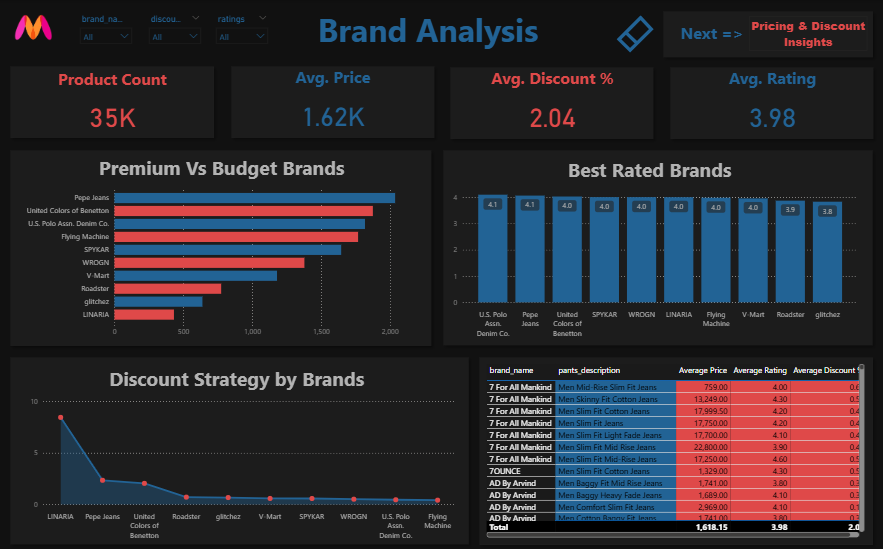

This screenshot's page, from the dashboard's own definition file:
{"tool":"powerbi","page":{"name":"Brand Analysis","canvas":[1480,920],"ordinal":1},"visuals":[{"type":"shape","box":[10.3,102.2,358.2,137.6],"z":0,"group":"g1"},{"type":"shape","box":[10,242,722.3,345.4],"z":0},{"type":"shape","box":[734.2,242.6,736.2,344.2],"z":1000},{"type":"shape","box":[1113.6,104.6,357.5,137.6],"z":2000,"group":"g3"},{"type":"shape","box":[10,589.3,784.5,330.7],"z":2000},{"type":"shape","box":[794.2,588.7,676.2,331.3],"z":3000},{"type":"clusteredBarChart","fields":{"Category":["myntra_cleaned.brand_name"],"Y":["myntra_cleaned.Average Price"]},"box":[30,301.7,690,271.7],"z":4000},{"type":"card","fields":{"Values":["myntra_cleaned.Average Rating"]},"box":[1113.8,154.5,359.6,78],"z":5000,"group":"g3"},{"type":"clusteredColumnChart","fields":{"Category":["myntra_cleaned.brand_name"],"Y":["myntra_cleaned.Average Rating"]},"box":[753.3,286.7,688.3,286.7],"z":5000},{"type":"card","fields":{"Values":["myntra_cleaned.Total Products"]},"box":[10,154.6,359.6,78],"z":6000,"group":"g1"},{"type":"lineChart","fields":{"Category":["myntra_cleaned.brand_name"],"Y":["myntra_cleaned.Average Discount %"]},"box":[25,656.7,746.7,253.3],"z":6000},{"type":"shape","box":[1102.5,10,368.8,95],"z":7000},{"type":"textbox","box":[466.3,5.9,501.9,86.9],"z":8000},{"type":"slicer","fields":{"Values":["myntra_cleaned.brand_name"]},"box":[125,18.3,107.2,68.3],"z":9000,"group":"g2"},{"type":"textbox","box":[1113.8,107.1,359.6,55],"z":9000,"group":"g3"},{"type":"slicer","fields":{"Values":["myntra_cleaned.ratings"]},"box":[352.8,18.3,107.2,68.3],"z":10000,"group":"g2"},{"type":"textbox","box":[10,109.1,359.1,54.6],"z":10000,"group":"g1"},{"type":"slicer","fields":{"Values":["myntra_cleaned.discount_percent"]},"box":[239.6,18.3,107.2,68.3],"z":11000,"group":"g2"},{"type":"shape","box":[746.1,104.5,357.5,137.6],"z":11000,"group":"g3"},{"type":"textbox","box":[1112.5,31.2,161.2,55],"z":12000},{"type":"actionButton","box":[1028.8,22.5,73.8,71.2],"z":13000},{"type":"shape","box":[379.1,103,357.5,137.6],"z":13000,"group":"g1"},{"type":"group","id":"g1","title":"Group 2","box":[10,102.2,1463.3,140],"z":14000},{"type":"card","fields":{"Values":["myntra_cleaned.Average Discount %"]},"box":[745.8,153.7,359.3,78.8],"z":14000,"group":"g3"},{"type":"tableEx","fields":{"Values":["myntra_cleaned.brand_name","myntra_cleaned.pants_description","myntra_cleaned.Average Price","myntra_cleaned.Average Rating","myntra_cleaned.Average Discount %"]},"box":[810,604.3,642.9,300],"z":15000},{"type":"pageNavigator","box":[1255,27.5,198.8,58.8],"z":16000},{"type":"card","fields":{"Values":["myntra_cleaned.Average Price"]},"box":[380.1,153.1,357.5,78],"z":16000,"group":"g1"},{"type":"textbox","box":[745.8,107.1,359.6,55],"z":17000,"group":"g3"},{"type":"textbox","box":[25,253.3,695,58.3],"z":17000},{"type":"textbox","box":[380.1,105.7,357.5,55],"z":18000,"group":"g1"},{"type":"textbox","box":[741.7,256.7,695,58.3],"z":18000},{"type":"textbox","box":[50,605,695,58.3],"z":19000},{"type":"group","id":"g2","title":"Group 3","box":[125,18.3,335,68.3],"z":19001},{"type":"image","box":[10,10,94.5,70.9],"z":19002},{"type":"group","id":"g3","title":"Group 1","box":[745.8,104.5,727.6,137.7],"z":30001,"group":"g1"}]}

Visuals, with their boxes in screenshot pixels (x1, y1, x2, y2), scaled from the page's 1480x920 canvas onto the 883x549 screenshot:
shape: {"x1": 6, "y1": 61, "x2": 220, "y2": 143}
shape: {"x1": 6, "y1": 144, "x2": 437, "y2": 351}
shape: {"x1": 438, "y1": 145, "x2": 877, "y2": 350}
shape: {"x1": 664, "y1": 62, "x2": 878, "y2": 145}
shape: {"x1": 6, "y1": 352, "x2": 474, "y2": 548}
shape: {"x1": 474, "y1": 351, "x2": 877, "y2": 548}
clusteredBarChart - myntra_cleaned.brand_name x myntra_cleaned.Average Price: {"x1": 18, "y1": 180, "x2": 430, "y2": 342}
card - myntra_cleaned.Average Rating: {"x1": 665, "y1": 92, "x2": 879, "y2": 139}
clusteredColumnChart - myntra_cleaned.brand_name x myntra_cleaned.Average Rating: {"x1": 449, "y1": 171, "x2": 860, "y2": 342}
card - myntra_cleaned.Total Products: {"x1": 6, "y1": 92, "x2": 221, "y2": 139}
lineChart - myntra_cleaned.brand_name x myntra_cleaned.Average Discount %: {"x1": 15, "y1": 392, "x2": 460, "y2": 543}
shape: {"x1": 658, "y1": 6, "x2": 878, "y2": 63}
textbox: {"x1": 278, "y1": 4, "x2": 578, "y2": 55}
slicer - myntra_cleaned.brand_name: {"x1": 75, "y1": 11, "x2": 139, "y2": 52}
textbox: {"x1": 665, "y1": 64, "x2": 879, "y2": 97}
slicer - myntra_cleaned.ratings: {"x1": 210, "y1": 11, "x2": 274, "y2": 52}
textbox: {"x1": 6, "y1": 65, "x2": 220, "y2": 98}
slicer - myntra_cleaned.discount_percent: {"x1": 143, "y1": 11, "x2": 207, "y2": 52}
shape: {"x1": 445, "y1": 62, "x2": 658, "y2": 144}
textbox: {"x1": 664, "y1": 19, "x2": 760, "y2": 51}
actionButton: {"x1": 614, "y1": 13, "x2": 658, "y2": 56}
shape: {"x1": 226, "y1": 61, "x2": 439, "y2": 144}
"Group 2" group: {"x1": 6, "y1": 61, "x2": 879, "y2": 145}
card - myntra_cleaned.Average Discount %: {"x1": 445, "y1": 92, "x2": 659, "y2": 139}
tableEx - myntra_cleaned.brand_name x myntra_cleaned.pants_description: {"x1": 483, "y1": 361, "x2": 867, "y2": 540}
pageNavigator: {"x1": 749, "y1": 16, "x2": 867, "y2": 51}
card - myntra_cleaned.Average Price: {"x1": 227, "y1": 91, "x2": 440, "y2": 138}
textbox: {"x1": 445, "y1": 64, "x2": 660, "y2": 97}
textbox: {"x1": 15, "y1": 151, "x2": 430, "y2": 186}
textbox: {"x1": 227, "y1": 63, "x2": 440, "y2": 96}
textbox: {"x1": 443, "y1": 153, "x2": 857, "y2": 188}
textbox: {"x1": 30, "y1": 361, "x2": 444, "y2": 396}
"Group 3" group: {"x1": 75, "y1": 11, "x2": 274, "y2": 52}
image: {"x1": 6, "y1": 6, "x2": 62, "y2": 48}
"Group 1" group: {"x1": 445, "y1": 62, "x2": 879, "y2": 145}
